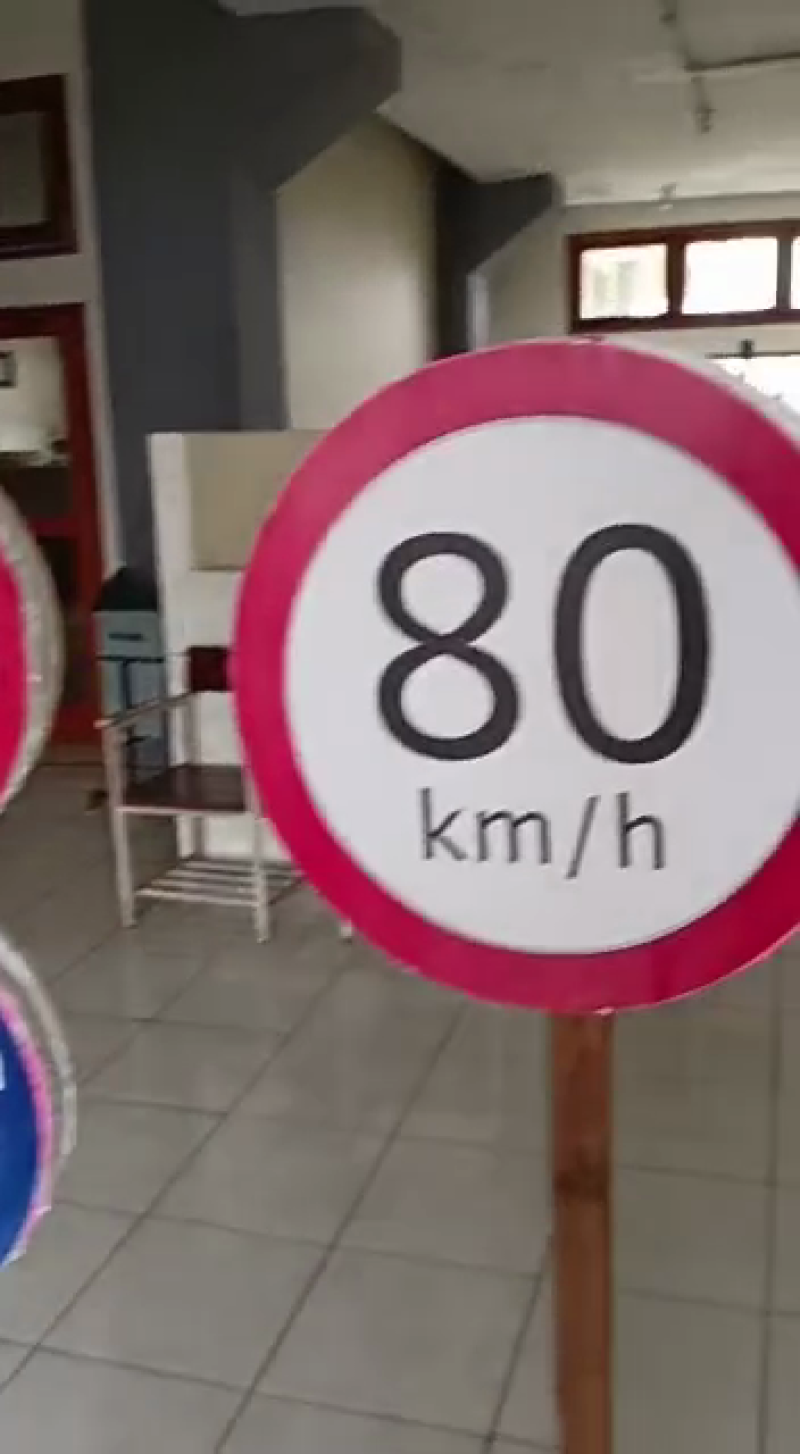batas maksimal 80kmperjam: (218, 319, 800, 1016)
